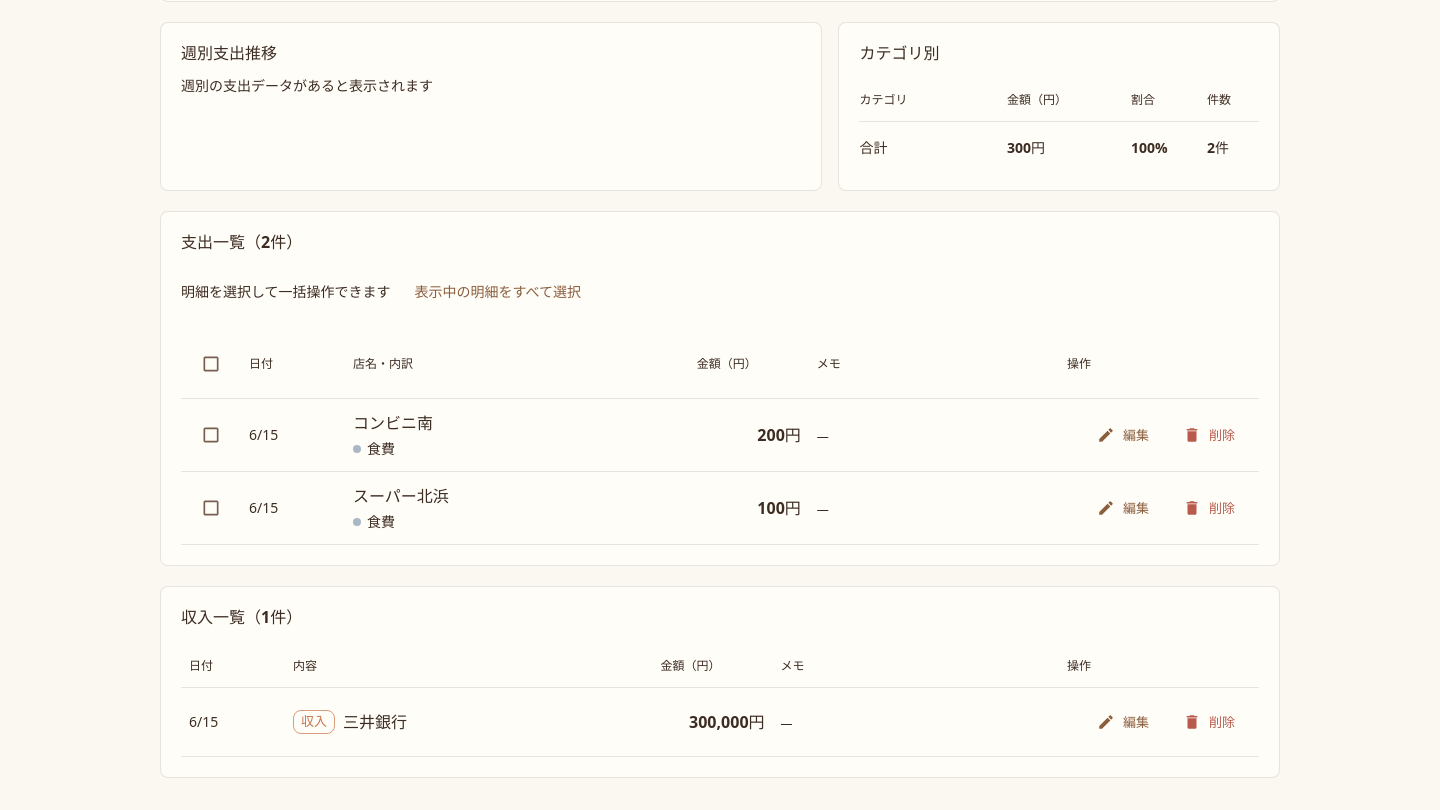
Scenario: SummaryPage › 収入の編集・削除操作を共通ハンドラへつなぐ
The image size is (1440, 810).
(page scrolled)
Click the button "編集" in the row of "三井銀行".
click(1124, 722)  # box [1083,700,1165,744]
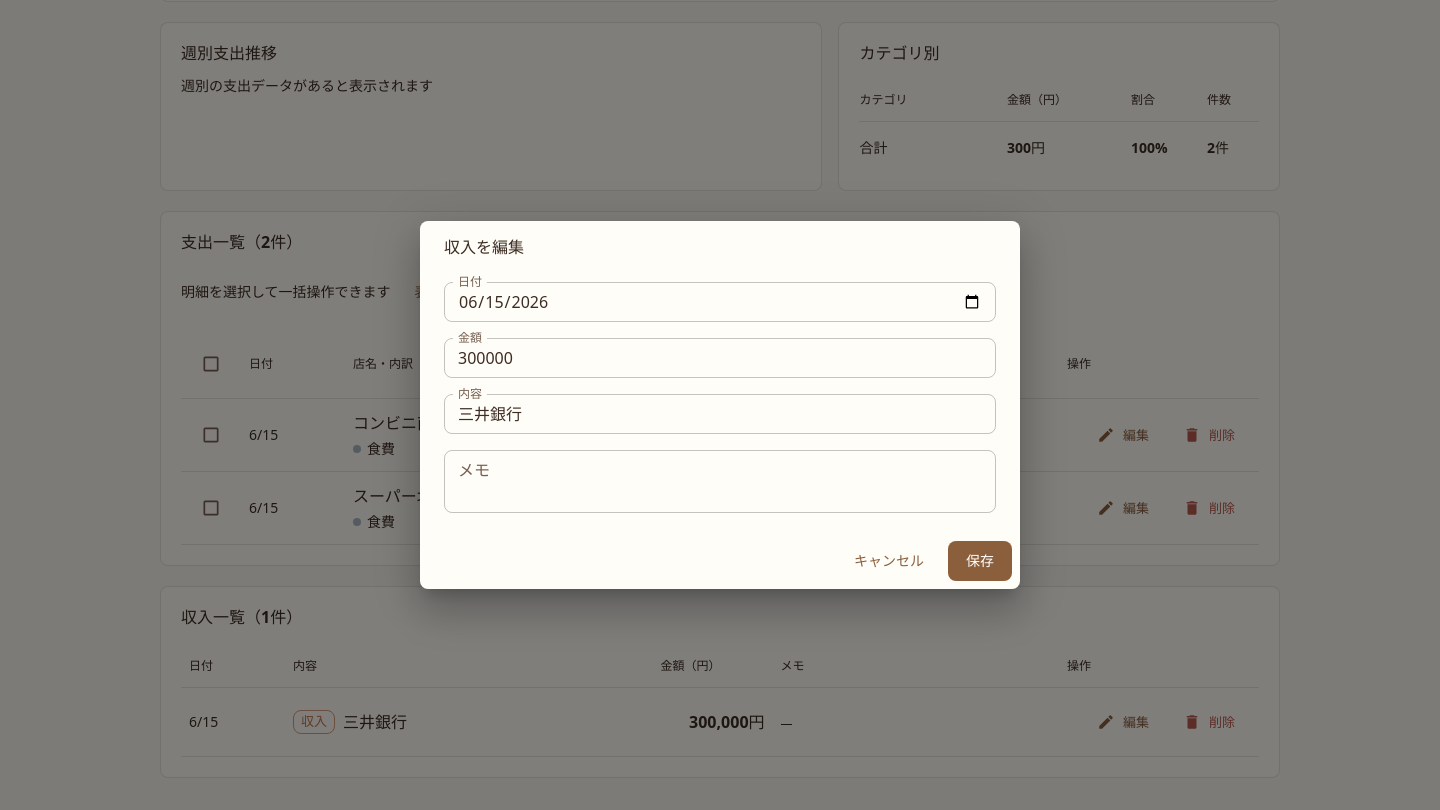
Check: the dialog is shown, box [420,221,1020,589]
Click the button "保存".
click(980, 561)  # box [948,541,1012,581]
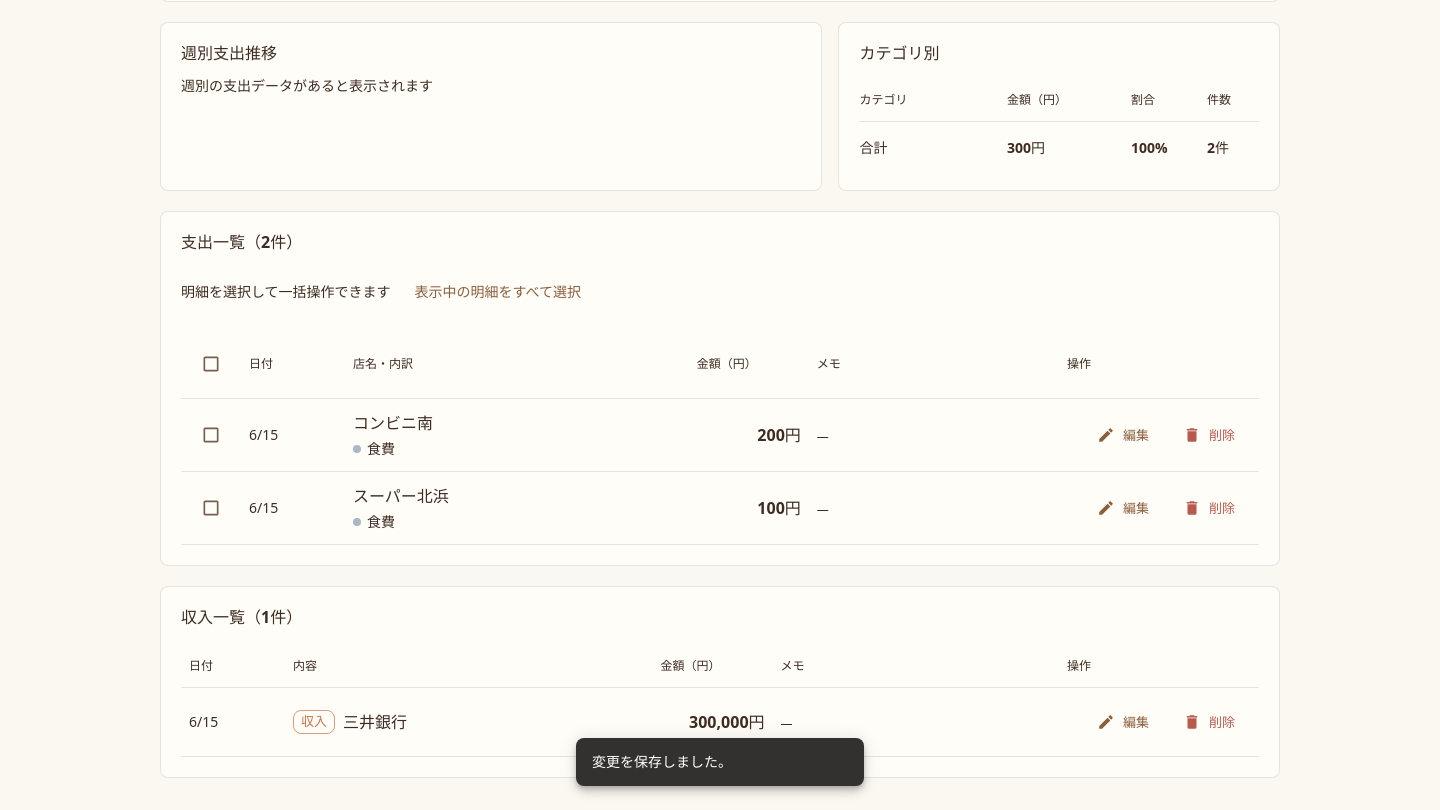
Check: the dialog is gone
Click the button "削除" in the row of "三井銀行".
click(1210, 722)  # box [1169,700,1251,744]
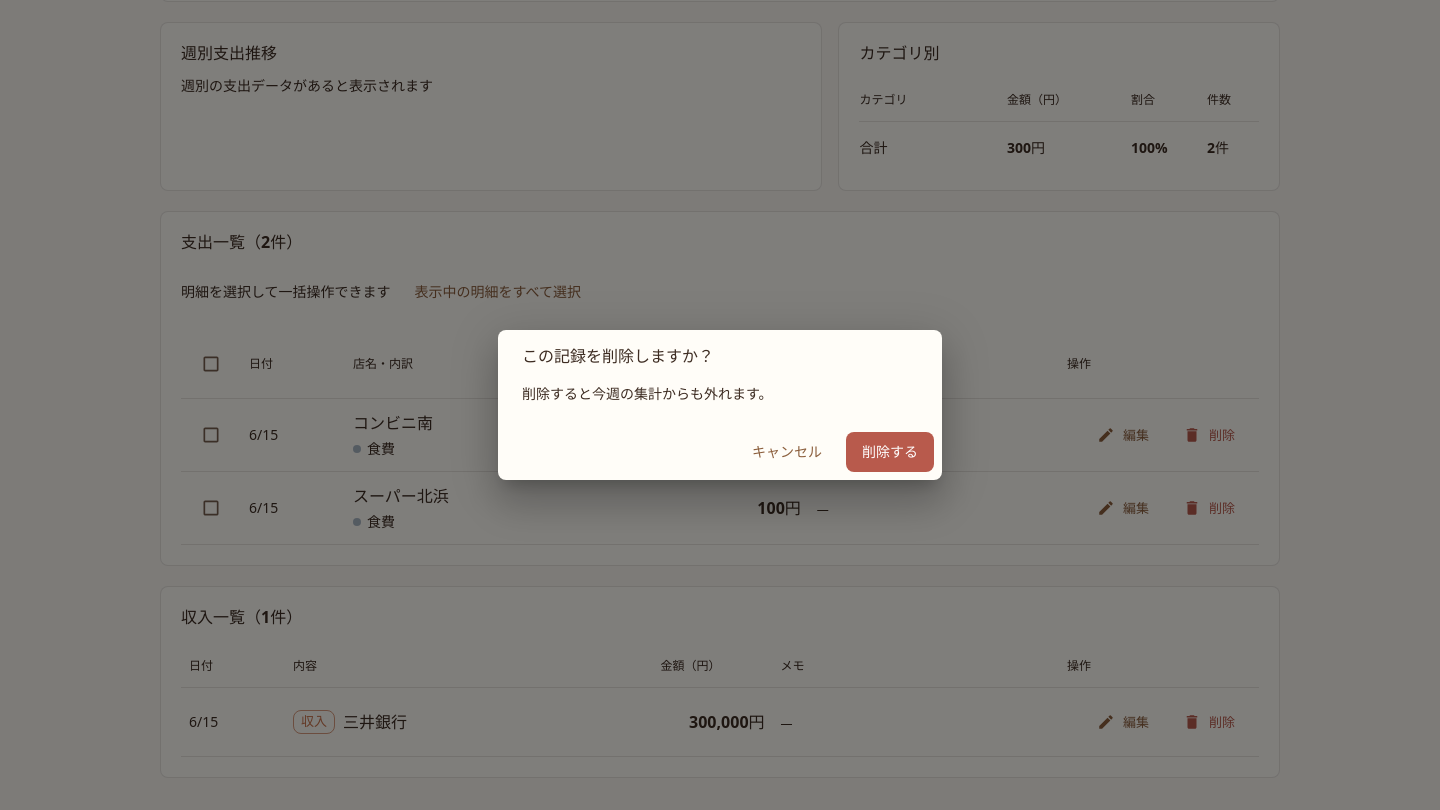
Check: the dialog is shown, box [498,330,942,480]
Click the button "キャンセル".
click(787, 452)  # box [736,432,838,472]
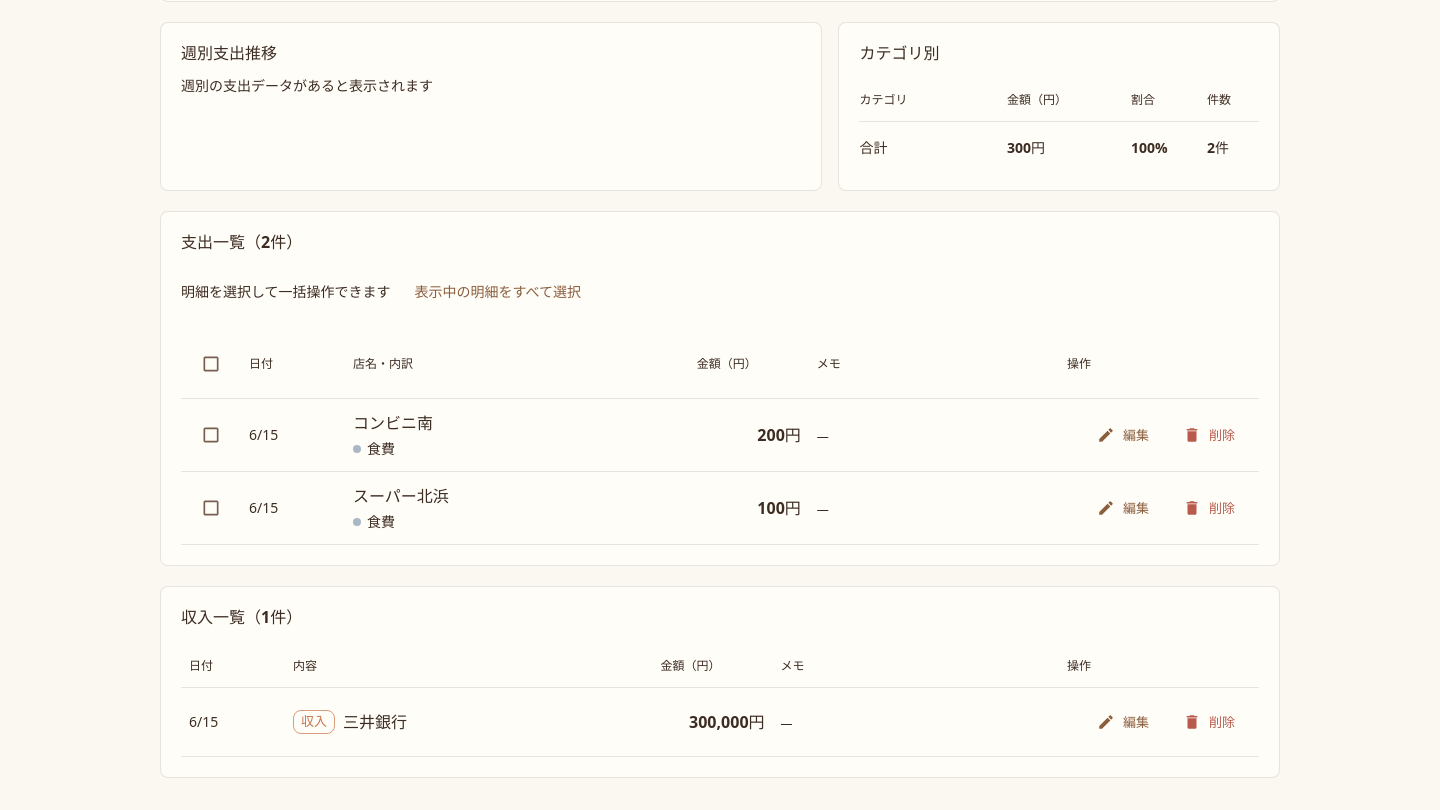
Check: the dialog is gone
